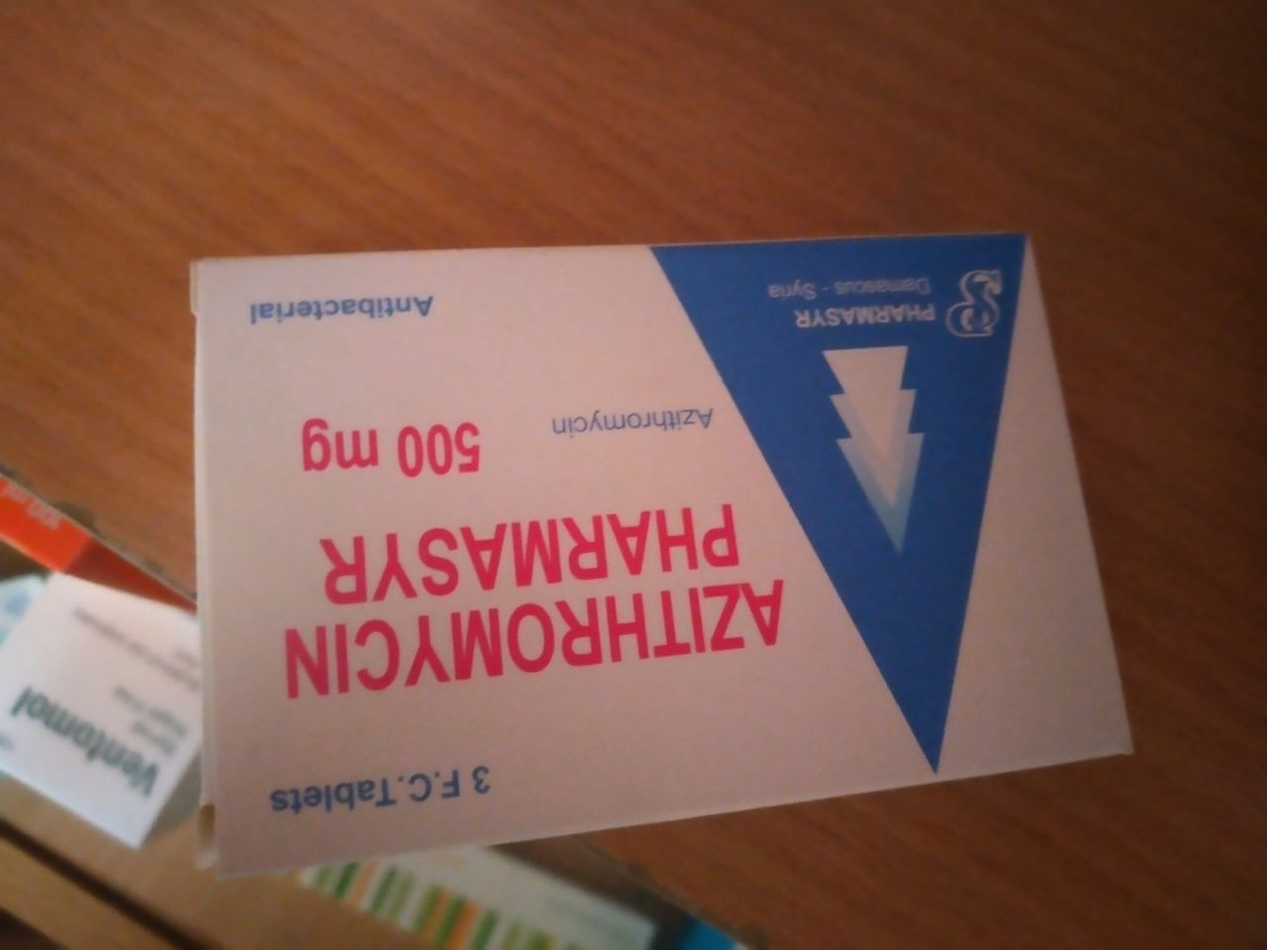Medicine: (171, 225, 1158, 873)
